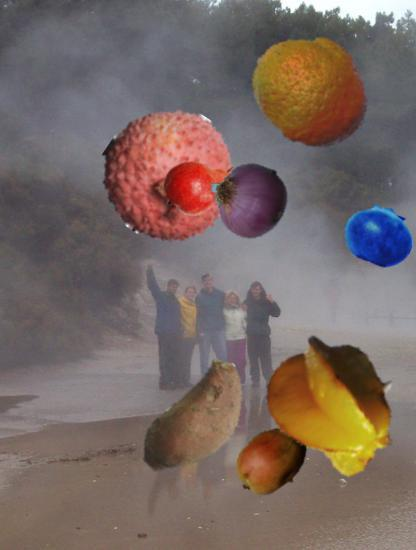Carambula: (259, 330, 409, 480)
Huckleberry: (345, 201, 414, 270)
Lychee: (103, 107, 238, 242)
Mandarine: (249, 29, 373, 153)
Onion: (202, 153, 289, 240)
Papaya: (232, 419, 315, 502)
Pear: (163, 147, 239, 223)
Potato: (130, 356, 266, 492)
